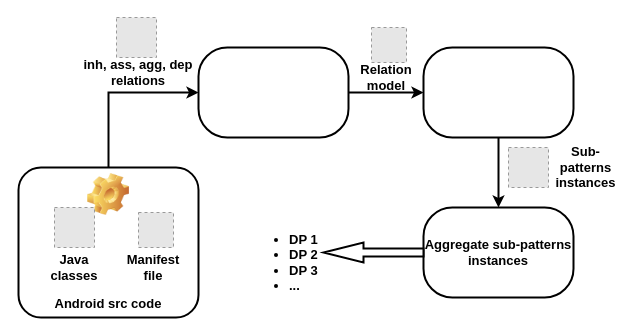
Image size: 640x336. Some labels were removed from this diagram. Grey dashed boxes stand in for pictures. Here are the shapes that lost their labels. From the top down, the centre of each, then its label:
the point at 273,92: Modeling classes relations
the point at 498,92: Extract sub-patterns instances
